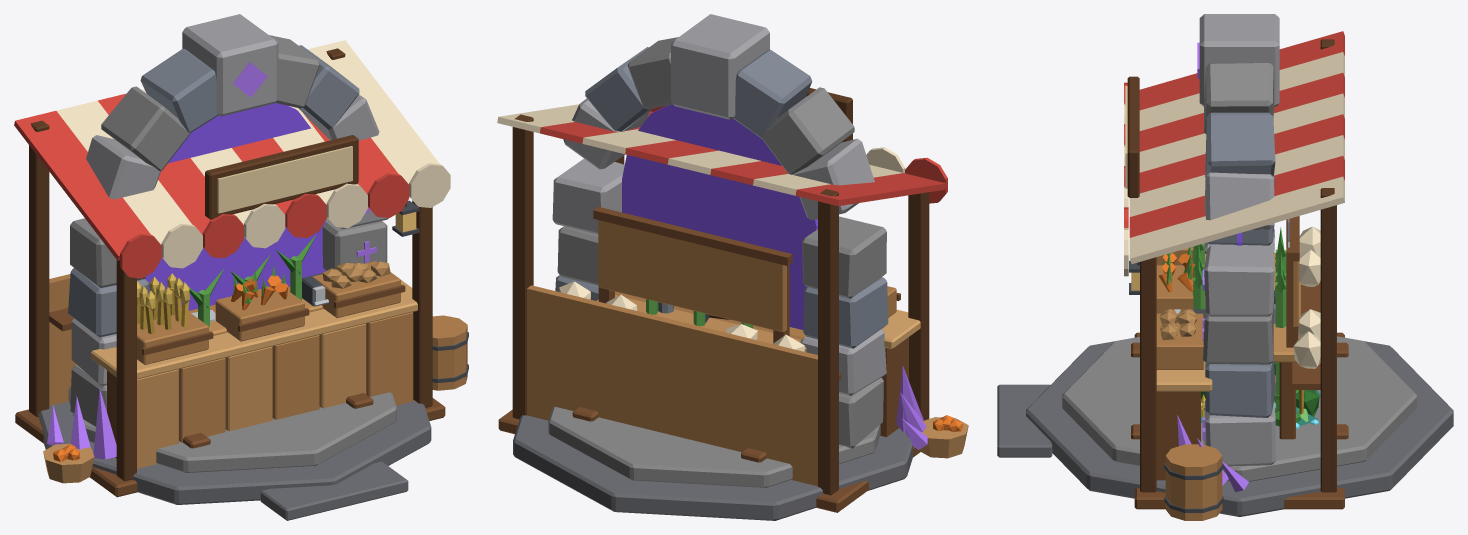
Rendered from Props.fbx.
3 renders of one model, left to right at view 1: azimuth 30°, elevation 25°; view 2: azimuth 150°, elevation 25°; view 3: azimuth 270°, elevation 25°, orthographic. The views are drawn at different scales.
Parts seen in each view (by area): view 1: MarketStall, PortalFrame, PortalSurface, MarketSignFace, PortalRunes, Crop_Sugarcane, Workbench, PlanterBed; view 2: MarketStall, PortalFrame, Workbench, PortalSurface, PortalRunes, PlanterBed; view 3: PortalFrame, MarketStall, Workbench, Crop_Sugarcane, PortalRunes, PlanterBed, Crop_Glowberry.
Boxes of the visible parts, bbox=[...] form: MarketStall: bbox=[14, 40, 468, 497]; PortalFrame: bbox=[38, 14, 431, 520]; PortalSurface: bbox=[145, 103, 325, 311]; MarketSignFace: bbox=[217, 146, 352, 213]; PortalRunes: bbox=[47, 62, 376, 459]; Crop_Sugarcane: bbox=[189, 234, 316, 326]; Workbench: bbox=[188, 273, 328, 335]; PlanterBed: bbox=[183, 393, 373, 448]; MarketStall: bbox=[497, 88, 968, 512]; PortalFrame: bbox=[513, 14, 913, 520]; Workbench: bbox=[593, 207, 806, 352]; PortalSurface: bbox=[622, 104, 817, 329]; PortalRunes: bbox=[896, 365, 927, 449]; PlanterBed: bbox=[572, 407, 766, 462]; PortalFrame: bbox=[997, 14, 1453, 516]; MarketStall: bbox=[1124, 31, 1344, 520]; Workbench: bbox=[1174, 216, 1300, 439]; Crop_Sugarcane: bbox=[1192, 227, 1286, 409]; PortalRunes: bbox=[1177, 42, 1248, 491]; PlanterBed: bbox=[1131, 342, 1348, 439]; Crop_Glowberry: bbox=[1201, 390, 1320, 425].
Size of the model in its own units: 11.02 by 9.78 by 9.98.
Materials: 1 (1 with a texture image).
